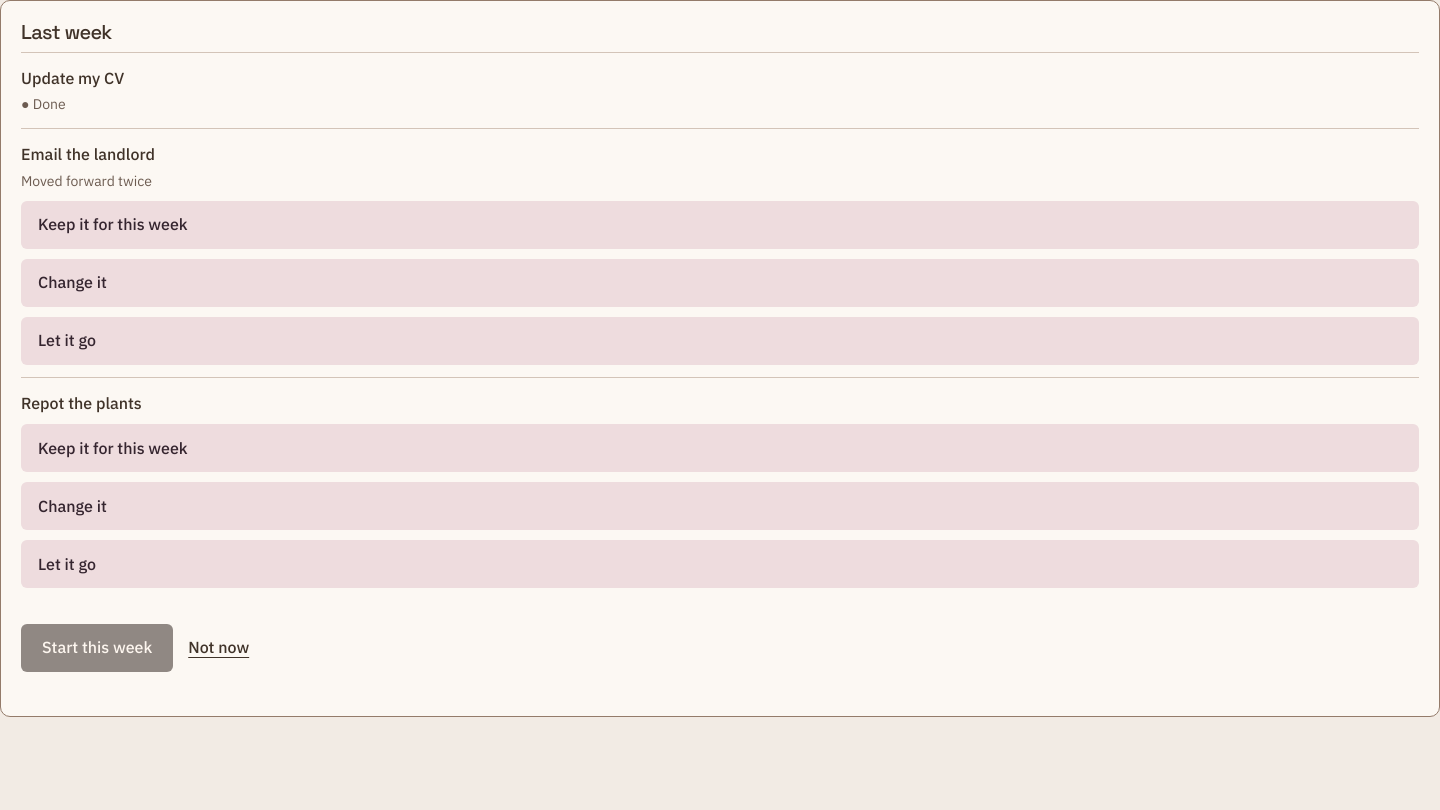
Test: saves, shows the set line with the add link, and reloads the page data
Click the button "Keep it for this week" below "Email the landlord".
click(113, 224)  # box [21,201,1419,249]
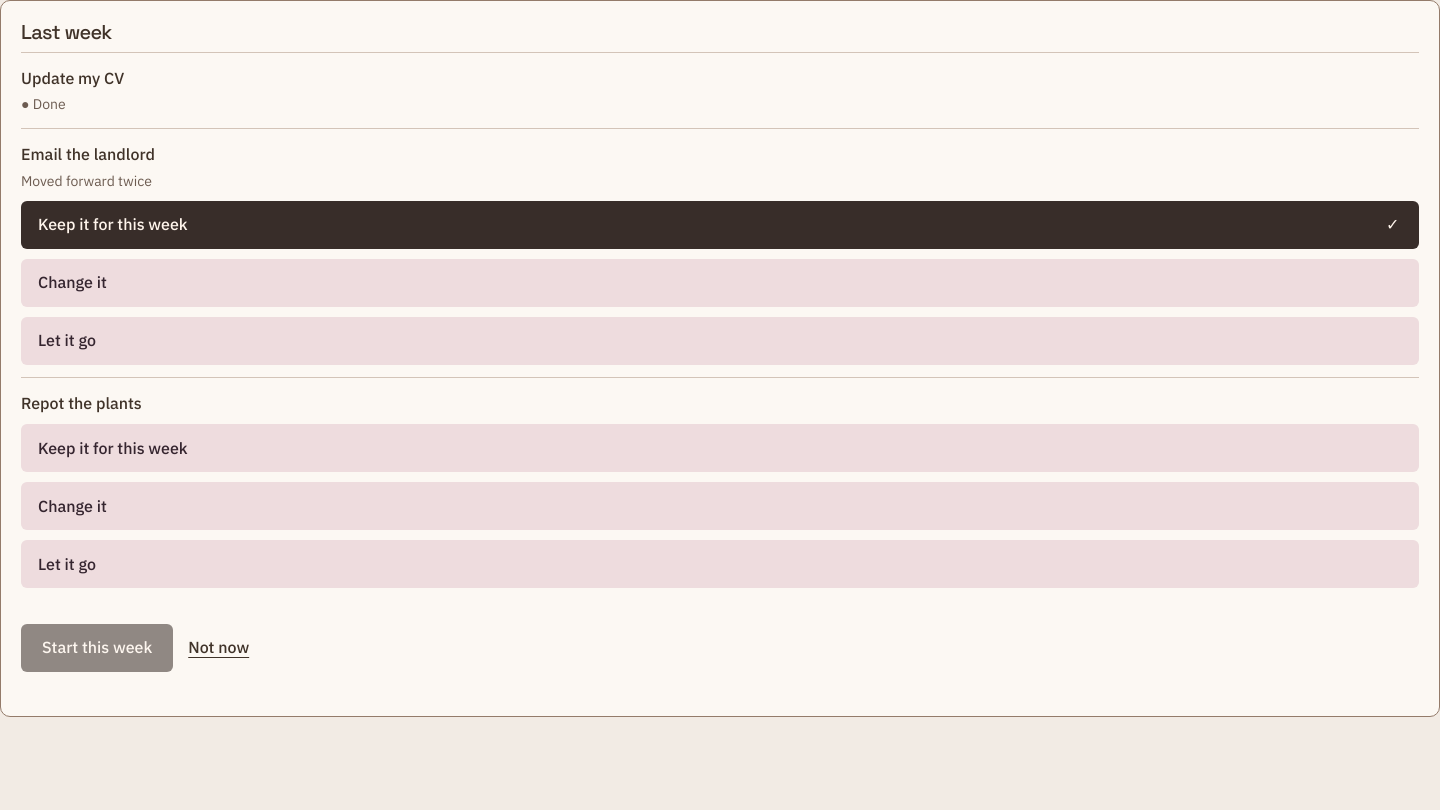
Click the button "Change it" below "Repot the plants".
click(72, 506)  # box [21,482,1419,530]
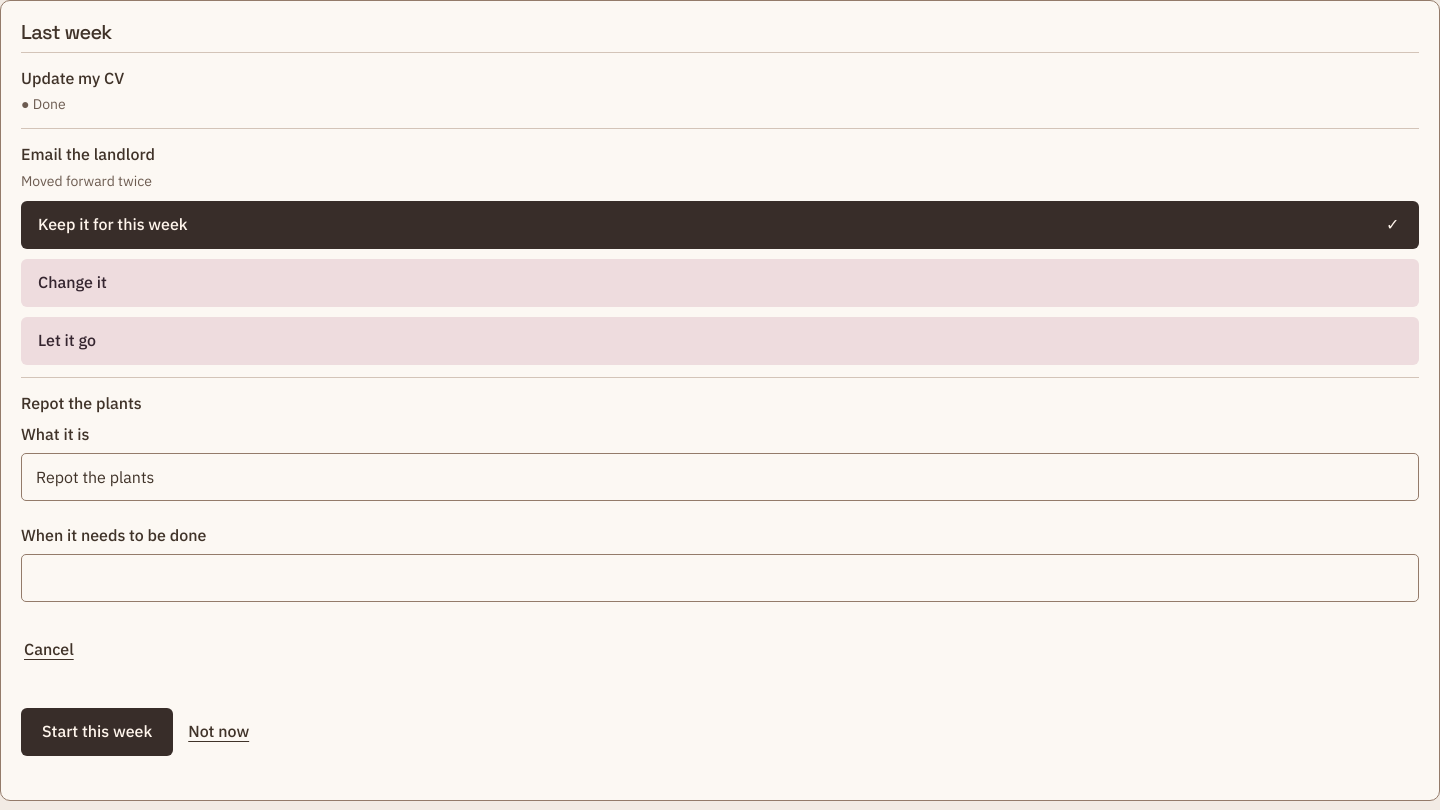
Type "Sunday" into the field labelled "When it needs to be done".
click(720, 578); type("Sunday")  # box [21,554,1419,602]
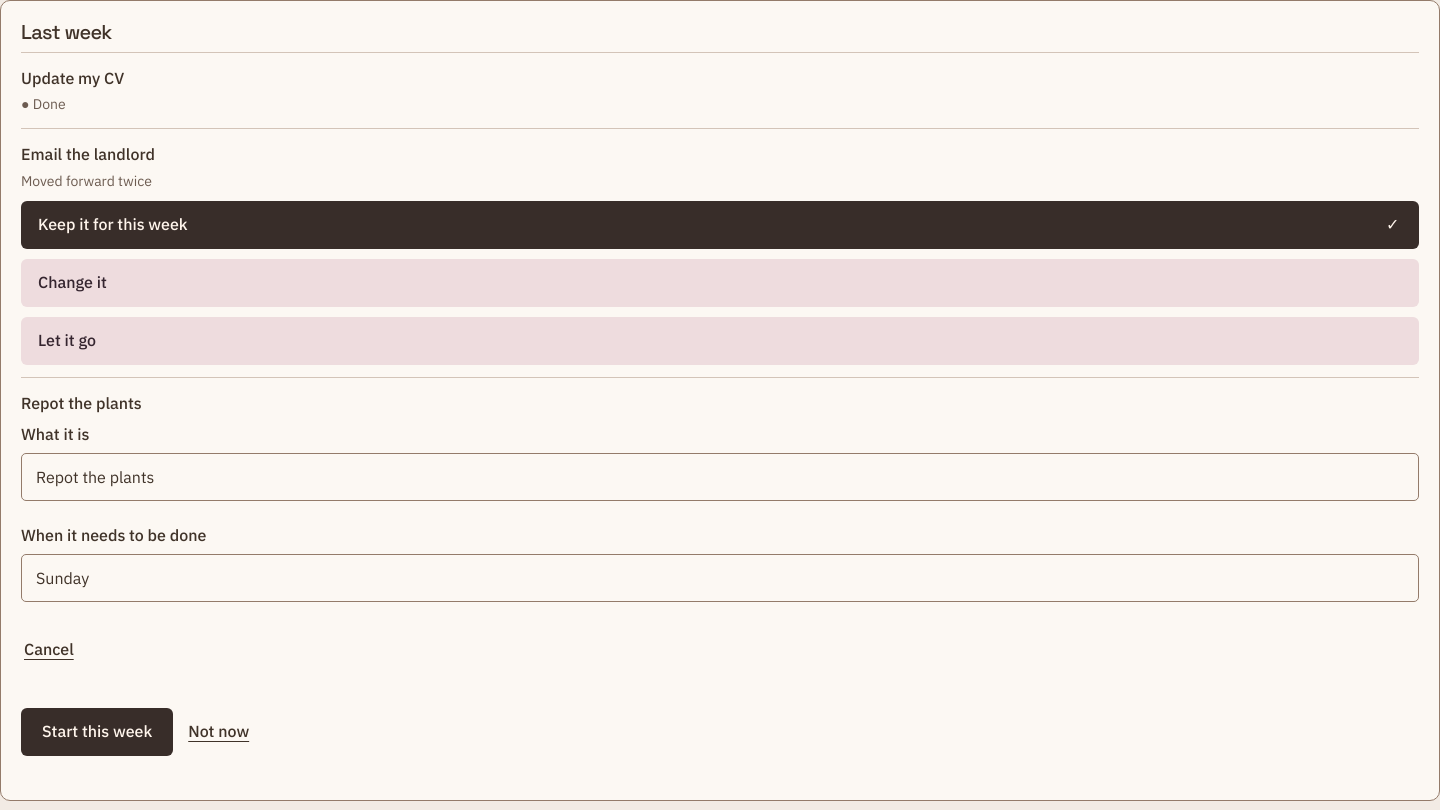
Click the button "Start this week".
click(97, 732)  # box [21,708,173,756]
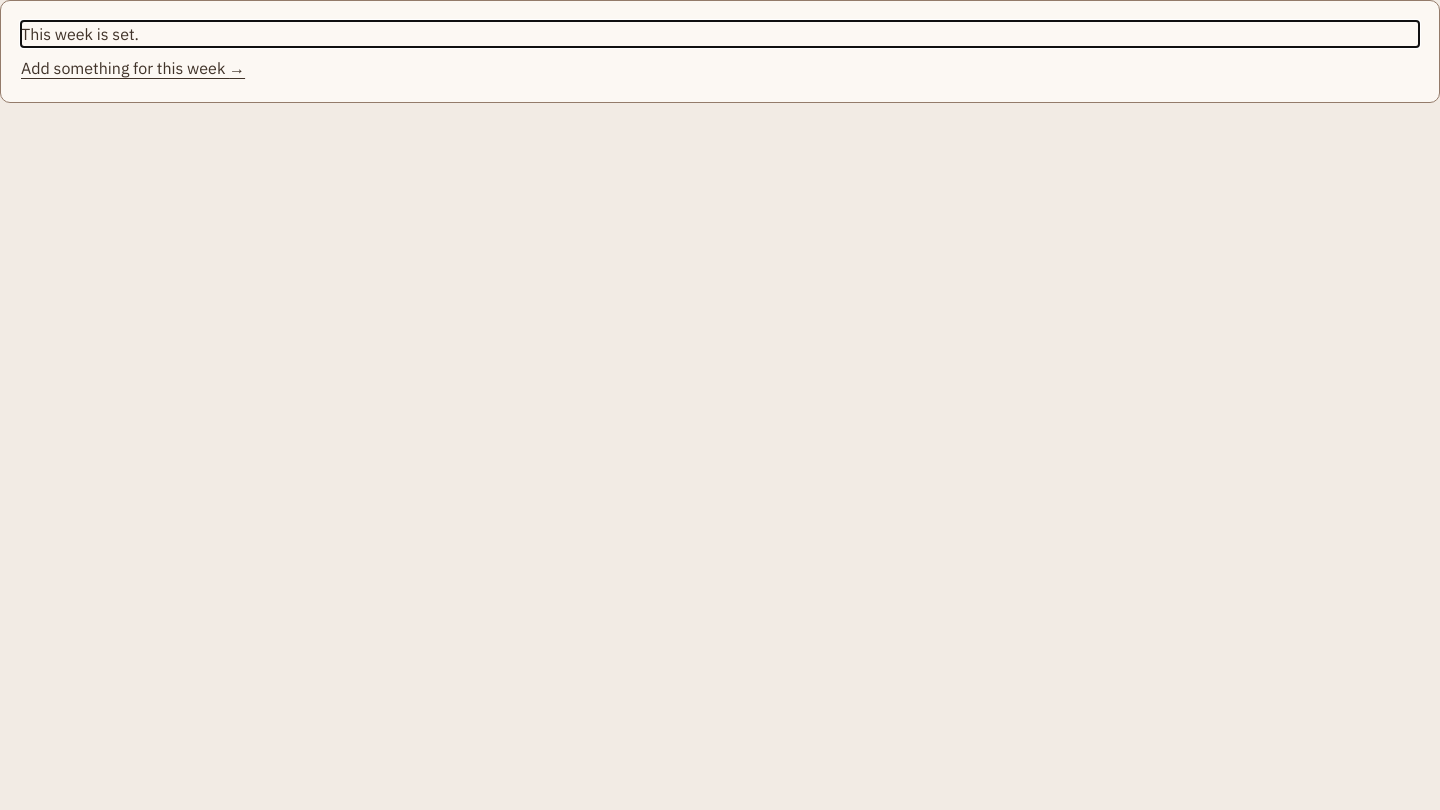
Result: the message reads "This week is set." at [21,24,139,44]
